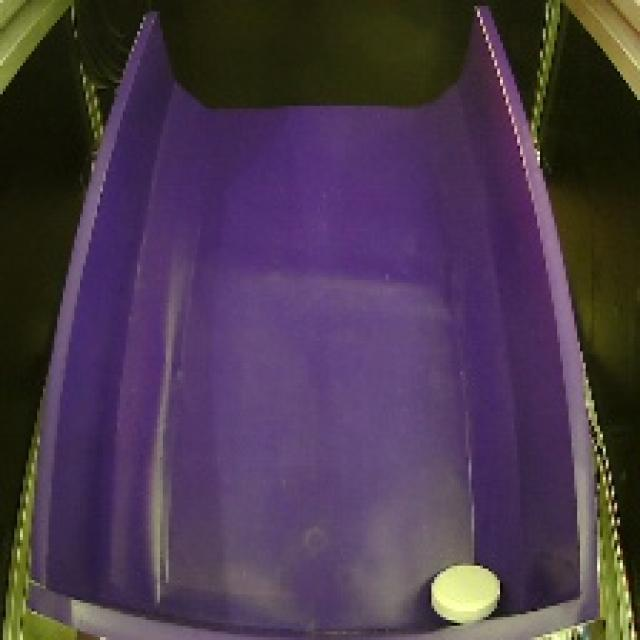small: (421, 554, 508, 629)
